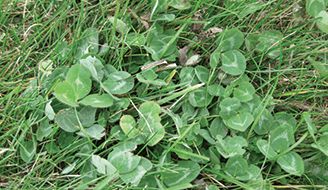clover: (27, 24, 319, 189)
